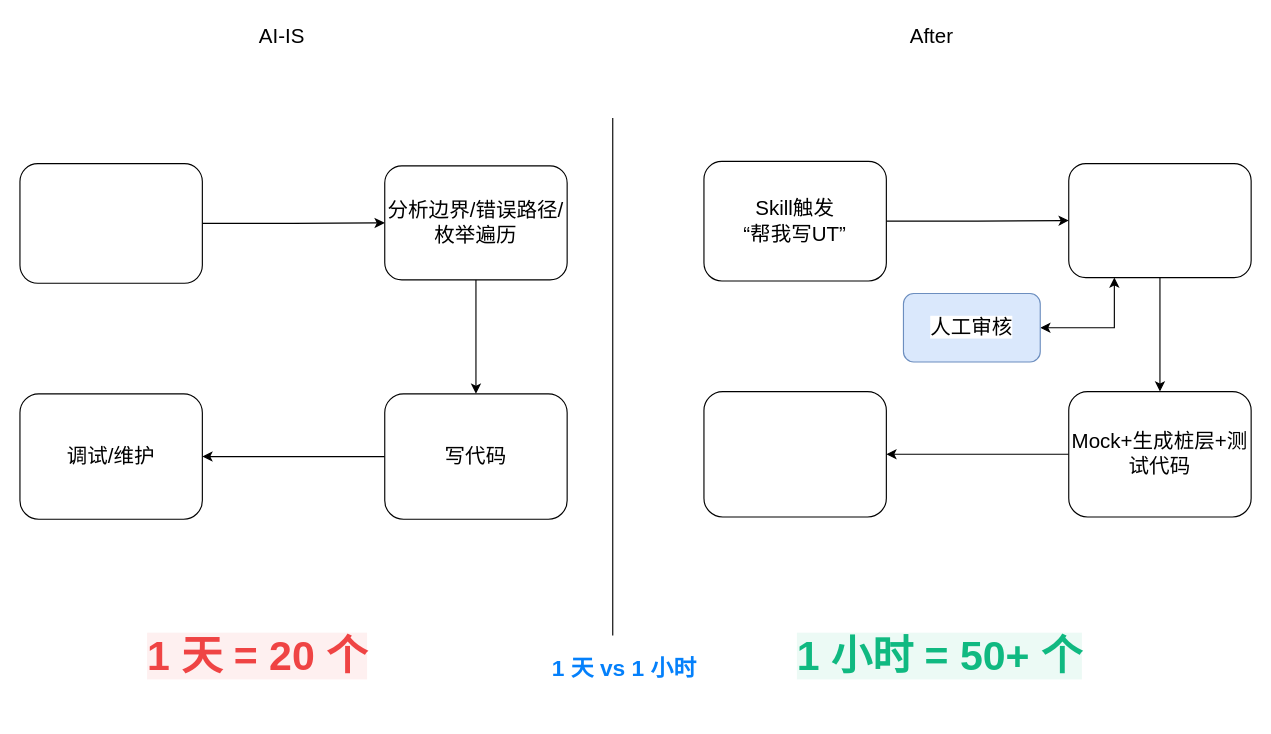
This 1271x734 diagram has some shape labels left out. Each missing label, with the centre of its shape:
分析源码 函数分类A/B/C: the point at 1159,220
理解需求: the point at 110,222
编译运行 自验证通过: the point at 794,453
